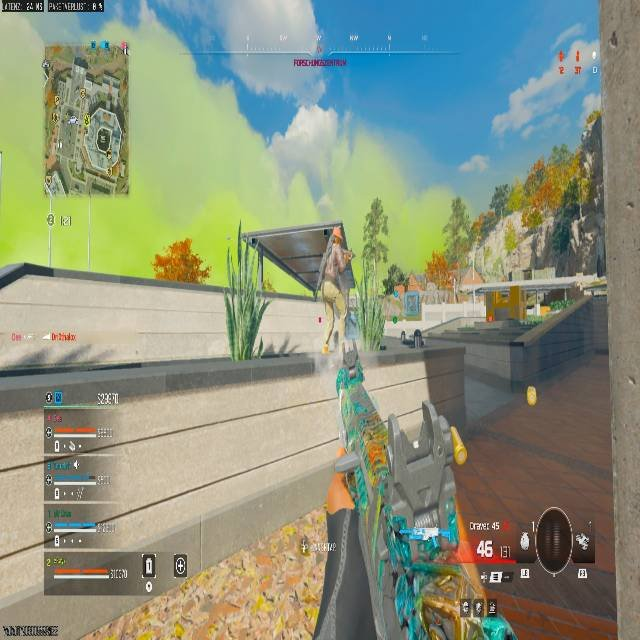player: (267, 97, 339, 221), (317, 228, 354, 359)
